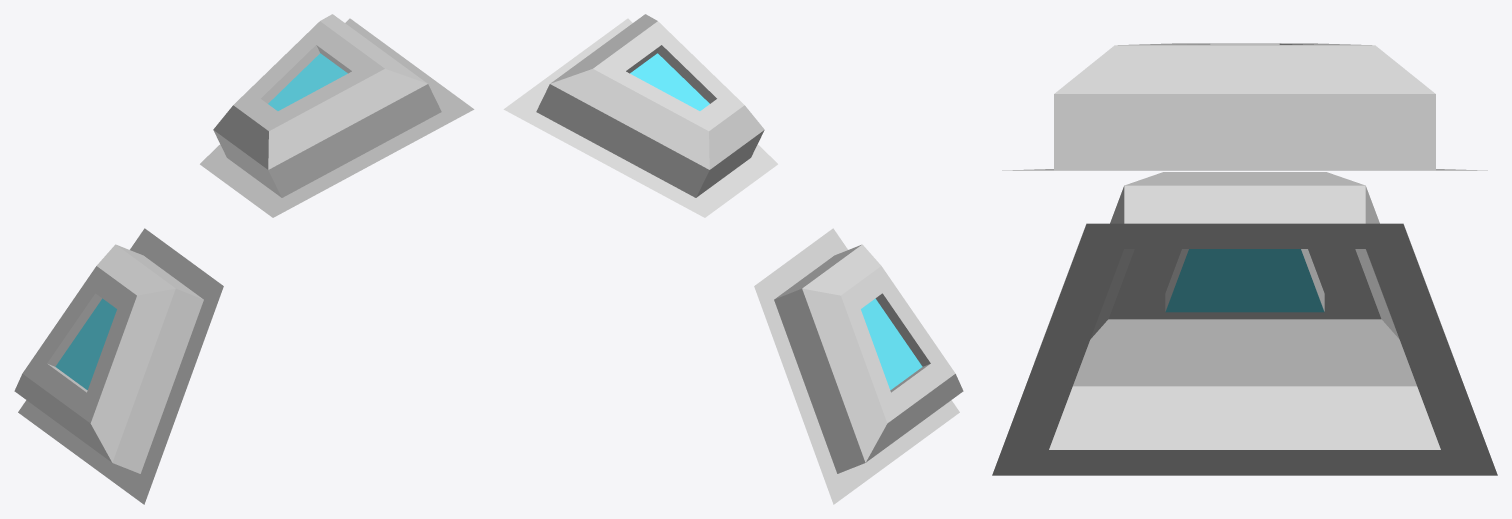
File: Mod_Pauldron_R_Queen2.FBX
3 views of the same model, side by side, from view 1: azimuth 30°, elevation 25°; view 2: azimuth 150°, elevation 25°; view 3: azimuth 270°, elevation 25° (orthographic). The views are drawn at different scales.
Visible parts, largest first — view 1: Mod_Pauldron_R_Queen2; view 2: Mod_Pauldron_R_Queen2; view 3: Mod_Pauldron_R_Queen2.
Boxes of the visible parts, x1,y1,x2,y2 form: Mod_Pauldron_R_Queen2: (14,14,474,504); Mod_Pauldron_R_Queen2: (503,14,963,504); Mod_Pauldron_R_Queen2: (992,43,1497,475).
Size of the model in its own units: 234 by 219 by 144.
